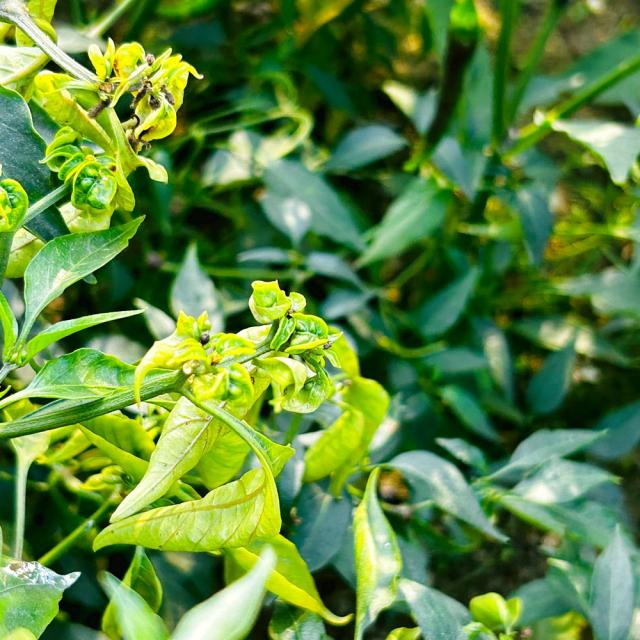Chilli_Leaf_Curl: (1, 1, 638, 638), (92, 277, 343, 555), (92, 390, 294, 553), (7, 212, 146, 368), (0, 345, 189, 440), (350, 466, 403, 638)
